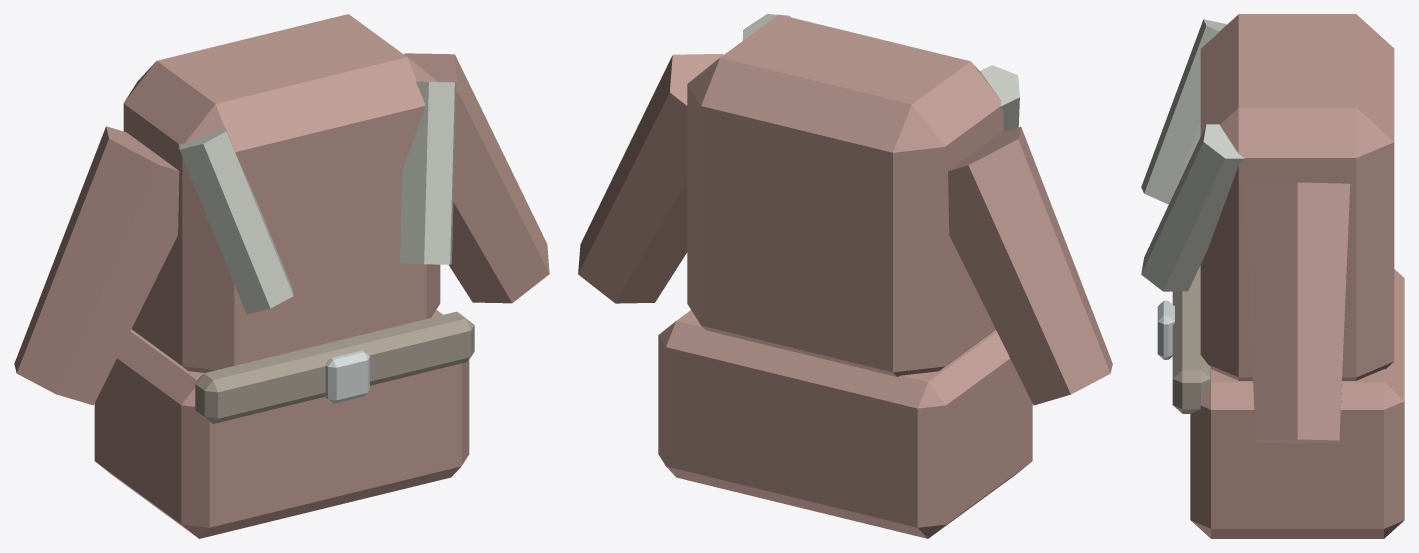
Rendered from SM_NPC_Top_04_Pilgrim.glb.
3 views of the same model, side by side, from view 1: azimuth 30°, elevation 25°; view 2: azimuth 150°, elevation 25°; view 3: azimuth 270°, elevation 25° (orthographic).
Parts seen in each view (by area): view 1: SM_NPC_Top_04_Pilgrim; view 2: SM_NPC_Top_04_Pilgrim; view 3: SM_NPC_Top_04_Pilgrim.
Boxes of the visible parts, <box> form: SM_NPC_Top_04_Pilgrim: <box>14,14,549,538</box>; SM_NPC_Top_04_Pilgrim: <box>578,14,1112,538</box>; SM_NPC_Top_04_Pilgrim: <box>1141,14,1404,538</box>.
Bounding box in the file's own units: 0.8845 × 0.665 × 0.3811.
